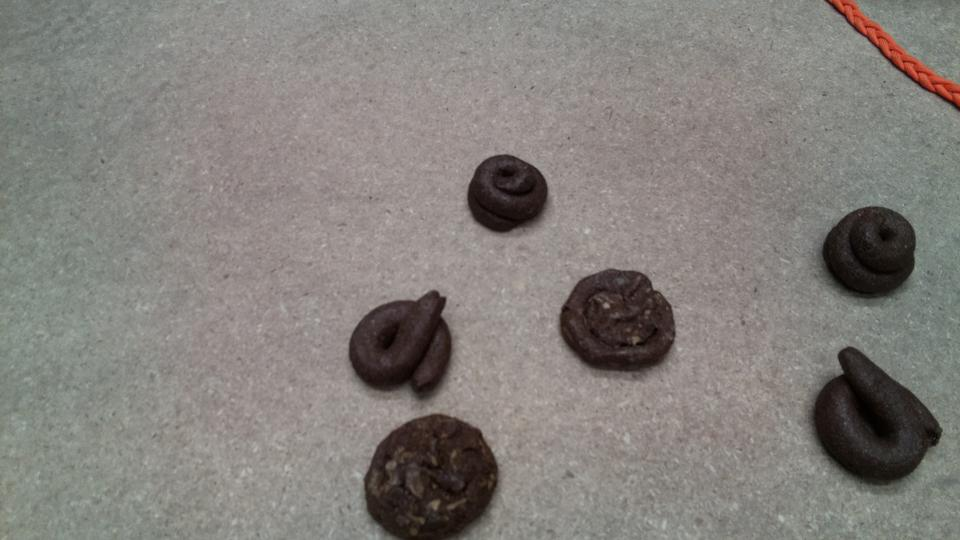poop: (810, 343, 945, 487), (362, 412, 502, 540), (557, 268, 677, 374), (346, 288, 456, 397), (820, 204, 918, 299), (466, 152, 550, 234)
rope: (836, 1, 960, 99)
